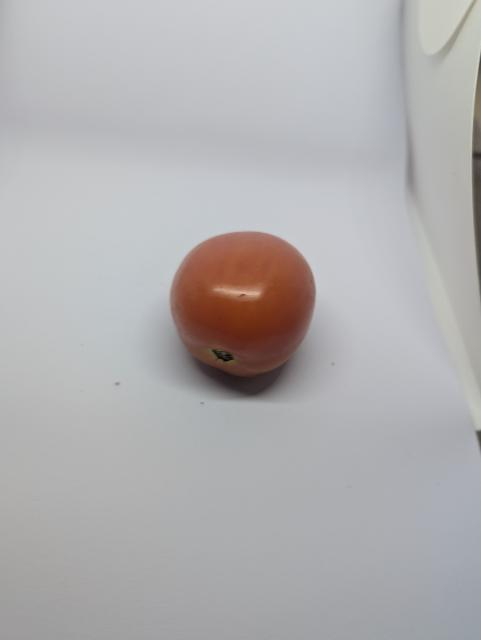red: (150, 224, 325, 384)
